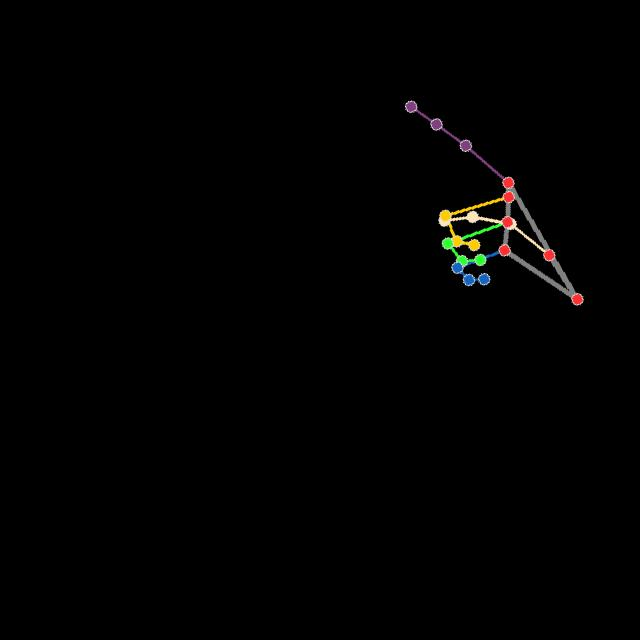gun: (402, 100, 585, 306)
